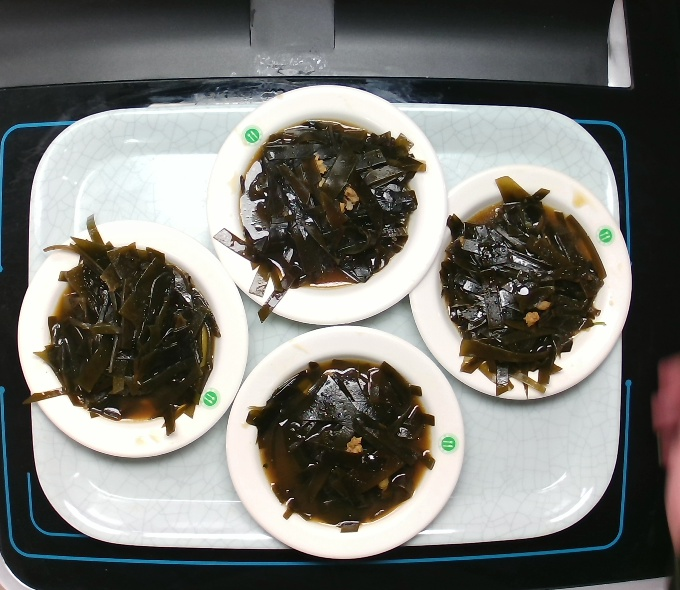wcq-HaiDai: (230, 117, 425, 301), (442, 192, 610, 404), (249, 353, 441, 538), (38, 246, 214, 428)
